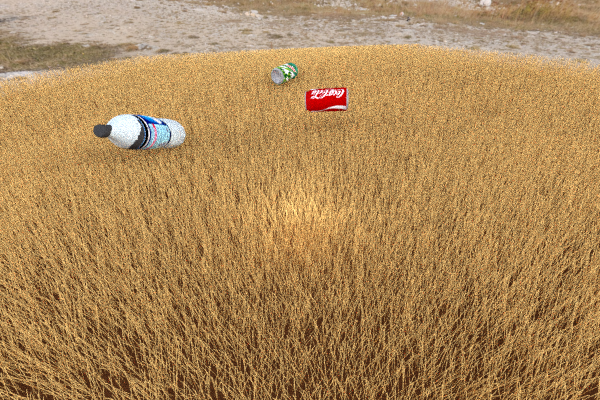bottle: (93, 114, 185, 150)
can: (304, 87, 348, 112), (270, 62, 298, 84)
